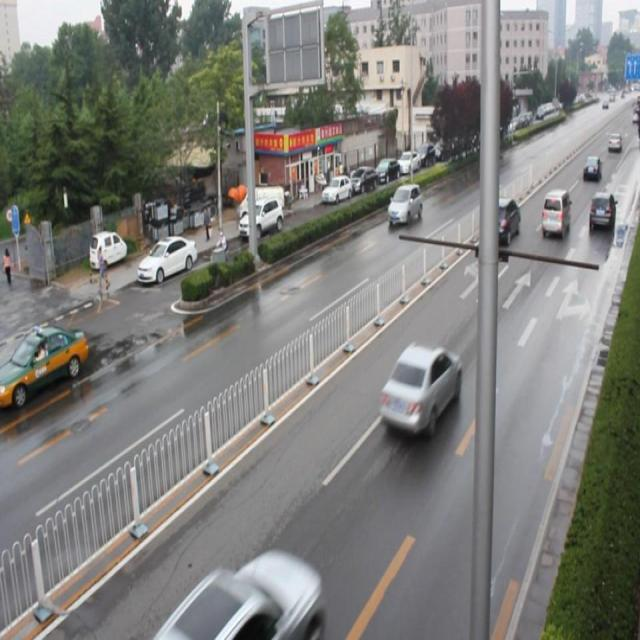car: (382, 344, 459, 436), (388, 183, 421, 225), (587, 192, 613, 231)
truck: (481, 196, 520, 244), (540, 191, 568, 236)
